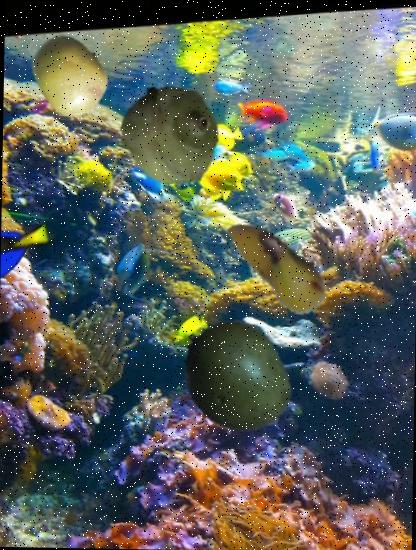Banana: (219, 202, 341, 324)
Kohlrabi: (117, 82, 226, 190)
Mango: (174, 314, 297, 438)
Pomelo: (26, 32, 112, 118)
